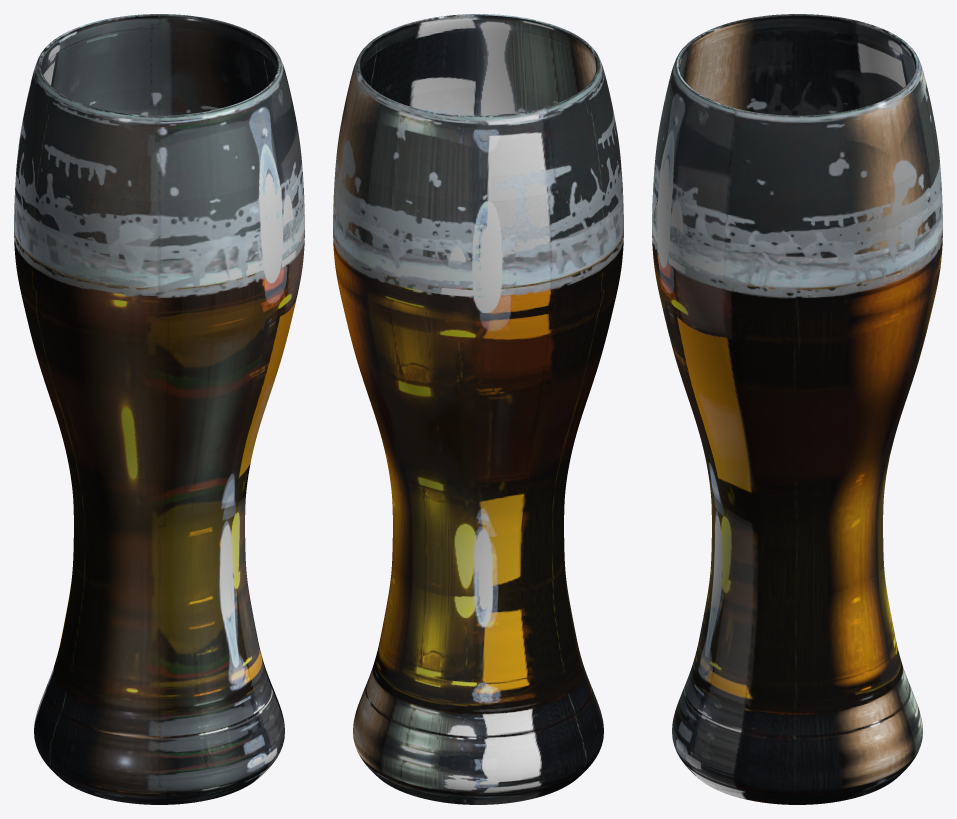
Rendered from beer.fbx.
3 renders of one model, left to right at view 1: azimuth 30°, elevation 25°; view 2: azimuth 150°, elevation 25°; view 3: azimuth 270°, elevation 25°, orthographic.
Visible parts, largest first — view 1: BeerGlass; view 2: BeerGlass; view 3: BeerGlass.
Boxes of the visible parts, x1,y1,x2,y2 form: BeerGlass: (14,14,304,804); BeerGlass: (333,14,623,804); BeerGlass: (652,14,942,804).
Bounding box in the file's own units: 888 × 2340 × 888.
Materials: 2 (2 with a texture image).
